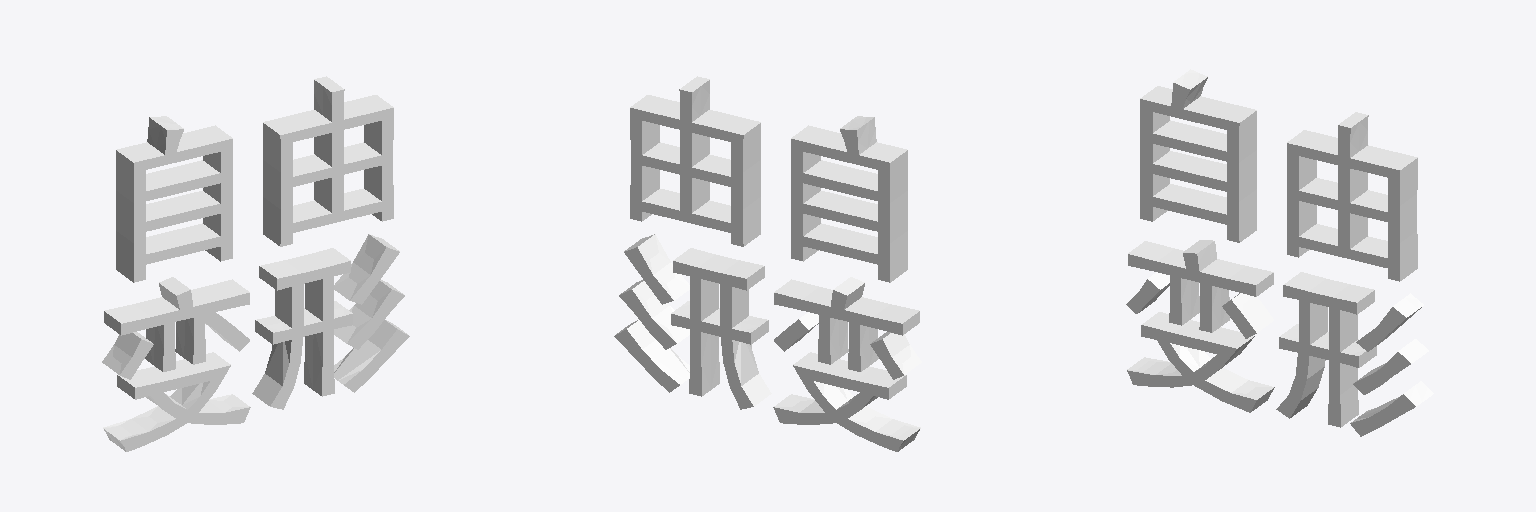
Rendered from deformation.obj.
3 renders of one model, left to right at view 1: azimuth 30°, elevation 25°; view 2: azimuth 150°, elevation 25°; view 3: azimuth 330°, elevation 25°, orthographic.
Parts seen in each view (by area): view 1: Default object_29, Default object_55, Default object_81, Default object_115, Default object_145, Default object_45, Default object_17, Default object_83, Default object_98, Default object_101, Default object_67, Default object_80 (+25 smaller); view 2: Default object_30, Default object_56, Default object_82, Default object_116, Default object_146, Default object_45, Default object_17, Default object_83, Default object_98, Default object_101, Default object_67, Default object_80 (+25 smaller); view 3: Default object_29, Default object_55, Default object_81, Default object_115, Default object_145, Default object_51, Default object_23, Default object_101, Default object_80, Default object_41, Default object_37, Default object_33 (+21 smaller).
Boxes of the visible parts, x1,y1,x2,y2 form: Default object_29: [280, 89, 393, 246]; Default object_55: [134, 129, 232, 282]; Default object_81: [270, 261, 352, 409]; Default object_115: [121, 365, 250, 451]; Default object_145: [121, 290, 249, 371]; Default object_45: [116, 150, 133, 282]; Default object_17: [263, 123, 280, 245]; Default object_83: [334, 320, 396, 384]; Default object_98: [334, 234, 385, 300]; Default object_101: [118, 352, 230, 387]; Default object_67: [252, 340, 291, 405]; Default object_80: [260, 248, 350, 278]; Default object_30: [630, 89, 743, 246]; Default object_56: [791, 129, 889, 282]; Default object_82: [671, 261, 753, 409]; Default object_116: [773, 365, 902, 451]; Default object_146: [774, 290, 902, 371]; Default object_45: [890, 150, 907, 282]; Default object_17: [743, 123, 760, 245]; Default object_83: [627, 320, 689, 384]; Default object_98: [638, 234, 689, 300]; Default object_101: [793, 352, 905, 387]; Default object_67: [732, 340, 771, 405]; Default object_80: [673, 248, 763, 278]; Default object_29: [1287, 125, 1399, 281]; Default object_55: [1140, 83, 1239, 242]; Default object_81: [1276, 285, 1358, 427]; Default object_115: [1127, 325, 1256, 412]; Default object_145: [1128, 253, 1255, 332]; Default object_51: [1239, 111, 1256, 241]; Default object_23: [1400, 158, 1417, 280]; Default object_101: [1142, 312, 1253, 348]; Default object_80: [1284, 272, 1373, 302]; Default object_41: [1153, 120, 1226, 151]; Default object_37: [1153, 151, 1226, 181]; Default object_33: [1153, 184, 1226, 214].
Bounding box in the file's own units: 18.81 × 19.34 × 2.